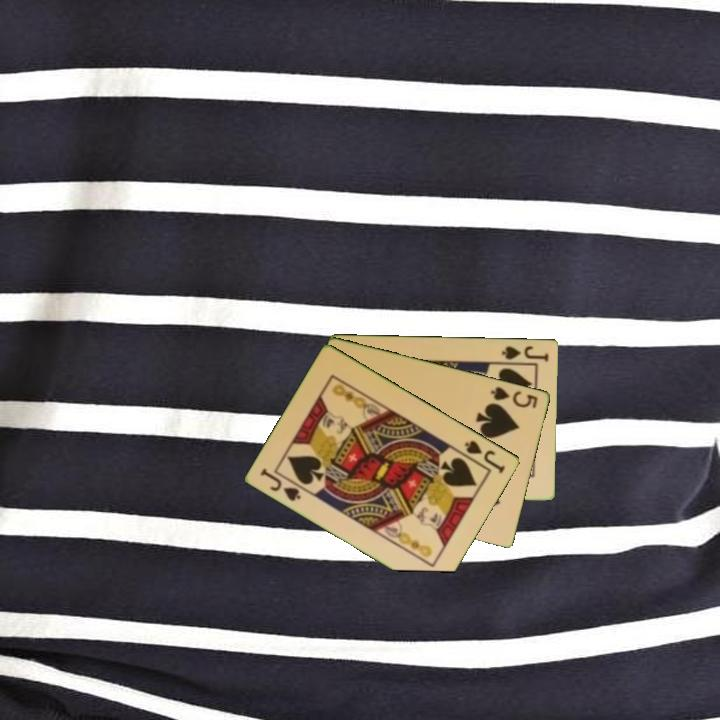5s: (488, 383, 541, 411)
Js: (257, 464, 304, 504), (461, 437, 508, 476), (498, 342, 552, 364)
